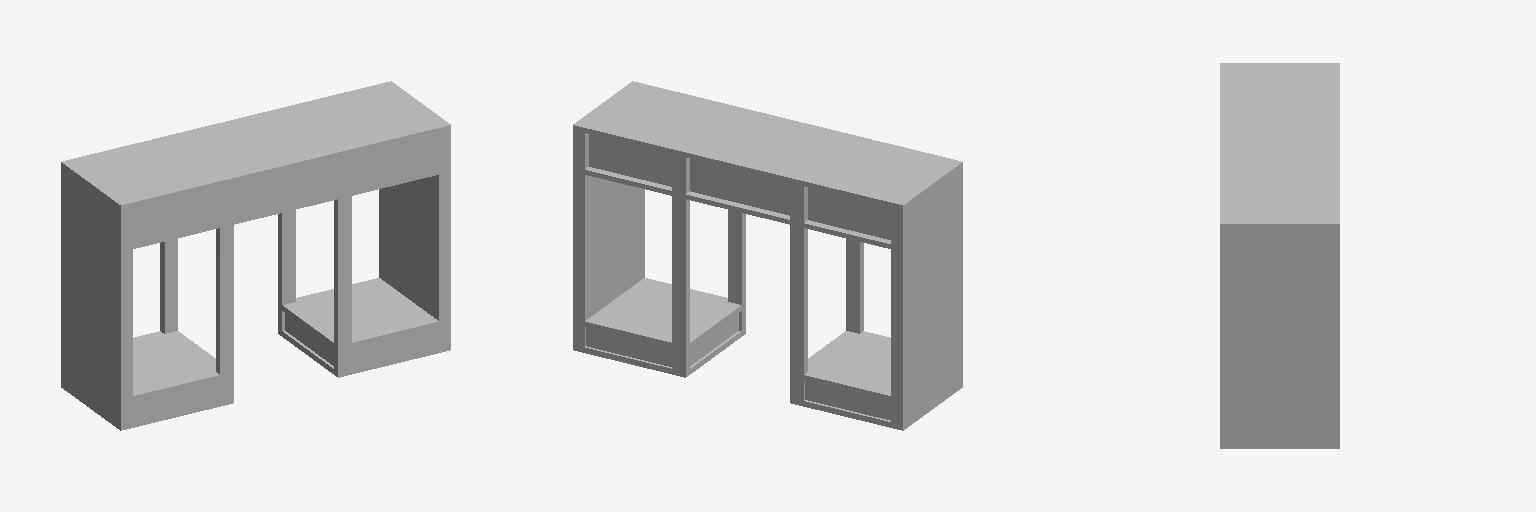
The model's file is shopfront_2.obj.
The picture shows the model from 3 angles: view 1: azimuth 30°, elevation 25°; view 2: azimuth 150°, elevation 25°; view 3: azimuth 270°, elevation 25°; orthographic projection.
Visible parts, largest first — view 1: Cube.011; view 2: Cube.011; view 3: Cube.011.
Boxes of the visible parts, box(x1,y1,x2,y2) form: Cube.011: box(61, 81, 450, 430); Cube.011: box(573, 81, 962, 430); Cube.011: box(1220, 63, 1339, 448).
Bounding box in the file's own units: 34.5 × 22.47 × 10.83.